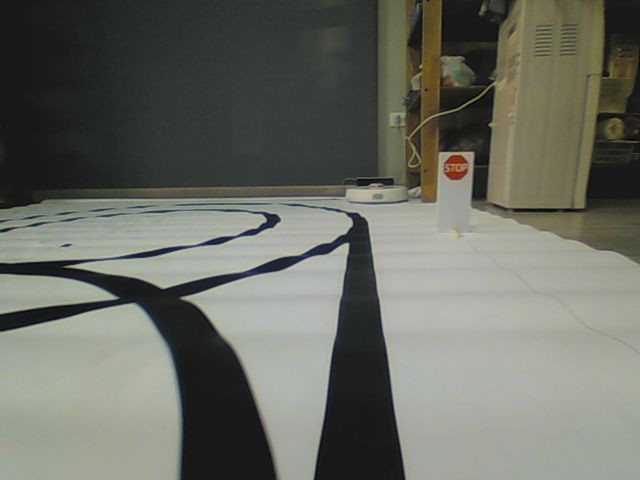Stop: (440, 155, 469, 181)
